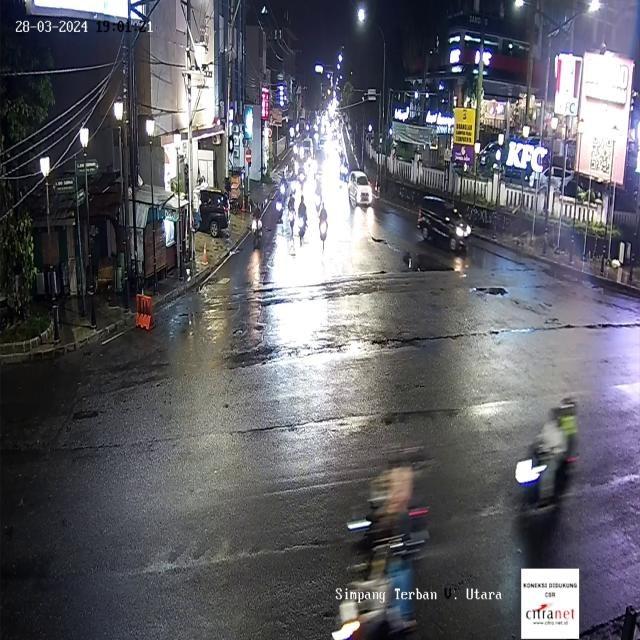car: (419, 195, 474, 252), (197, 191, 231, 238), (348, 172, 376, 208)
motorcycle: (330, 474, 431, 639), (348, 441, 432, 569), (515, 400, 582, 510), (296, 195, 309, 249), (251, 204, 261, 251), (319, 202, 329, 248), (276, 186, 282, 224), (288, 194, 294, 228)
